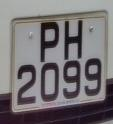0: (37, 58, 64, 107)
2: (13, 58, 41, 111)
9: (81, 52, 104, 102), (60, 56, 84, 103)
H: (60, 15, 87, 63)
P: (35, 17, 64, 65)
